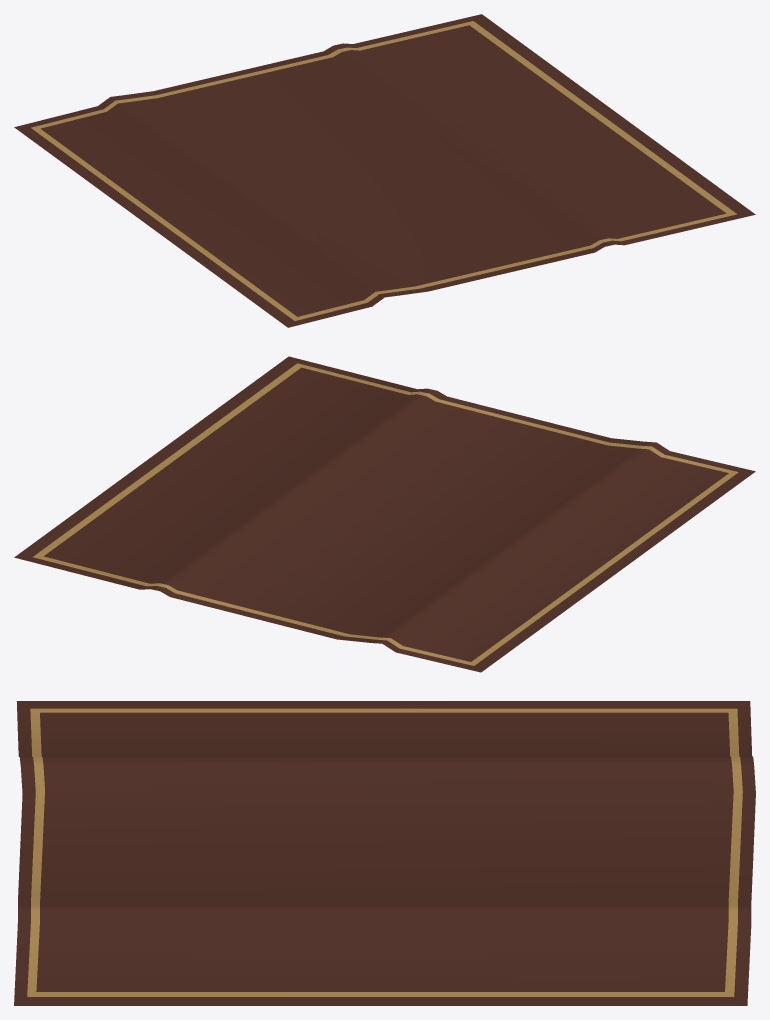
The model's file is carpet-2-1a97967315.glb.
3 views of the same model, one above another, from view 1: azimuth 30°, elevation 25°; view 2: azimuth 150°, elevation 25°; view 3: azimuth 270°, elevation 25° (orthographic). The views are drawn at different scales.
Visible parts, largest first — view 1: Carpet_2.obj; view 2: Carpet_2.obj; view 3: Carpet_2.obj.
Boxes of the visible parts, x1,y1,x2,y2 form: Carpet_2.obj: (14, 14, 755, 327); Carpet_2.obj: (14, 356, 755, 672); Carpet_2.obj: (14, 701, 755, 1005).
Bounding box in the file's own units: 3.09 × 0.0367 × 3.18.
